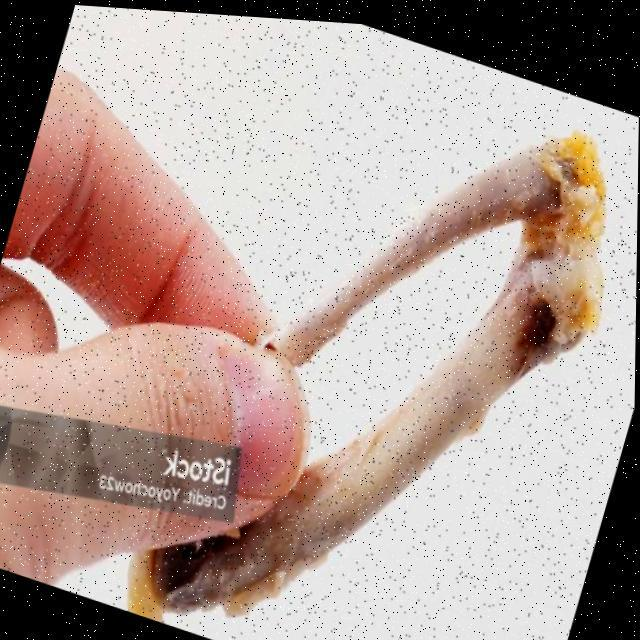Wet Waste: (60, 4, 640, 640)
